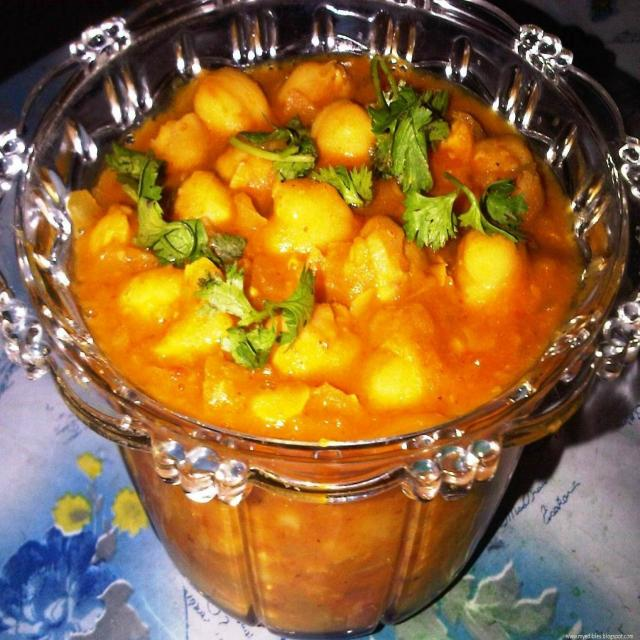Chole: (68, 52, 583, 630)
